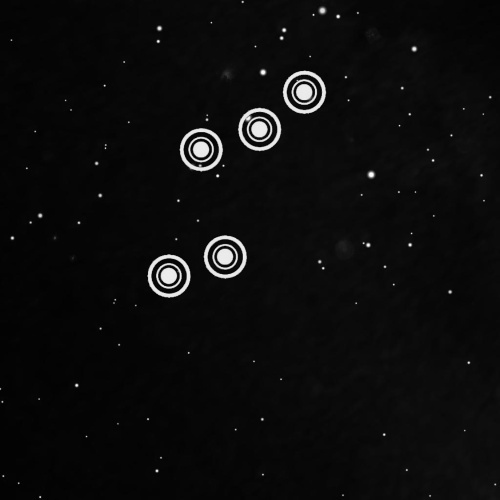lyra: (132, 49, 332, 317)
